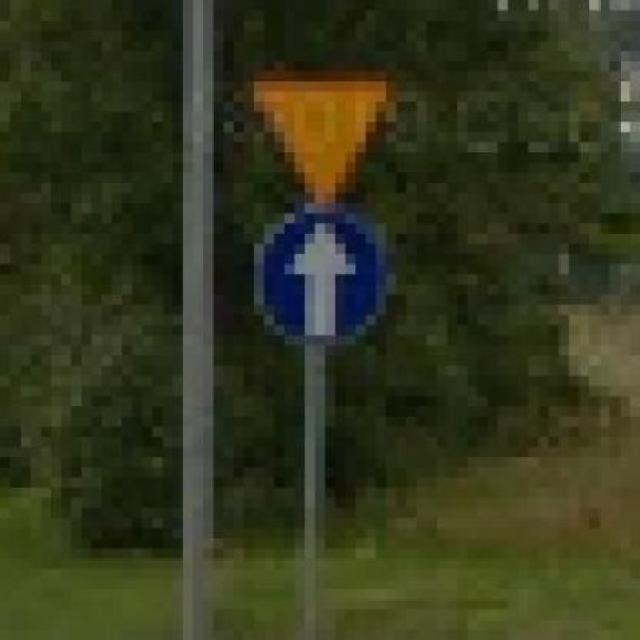Ustap pierwszenstwa: (244, 71, 396, 214)
